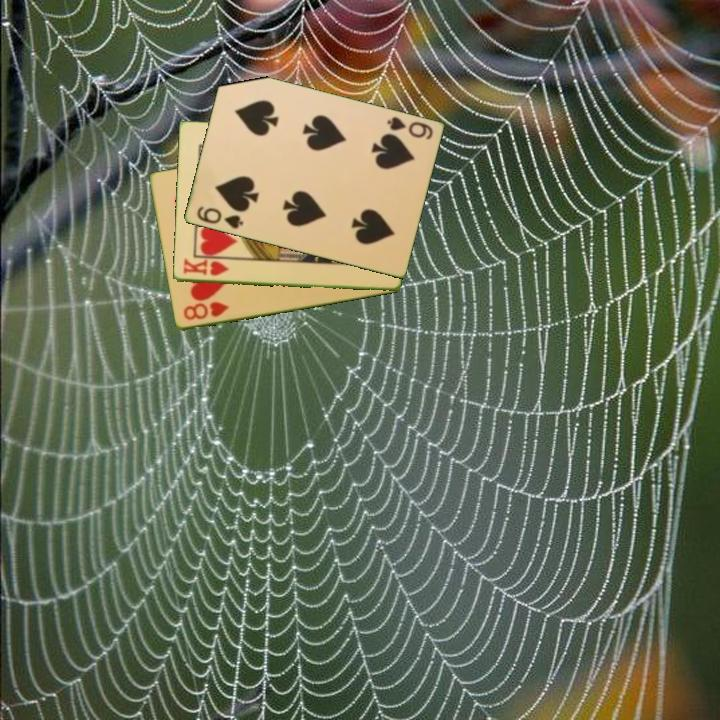6s: (383, 113, 436, 143), (193, 203, 246, 232)
8h: (180, 298, 231, 323)
Kh: (179, 256, 231, 279)
